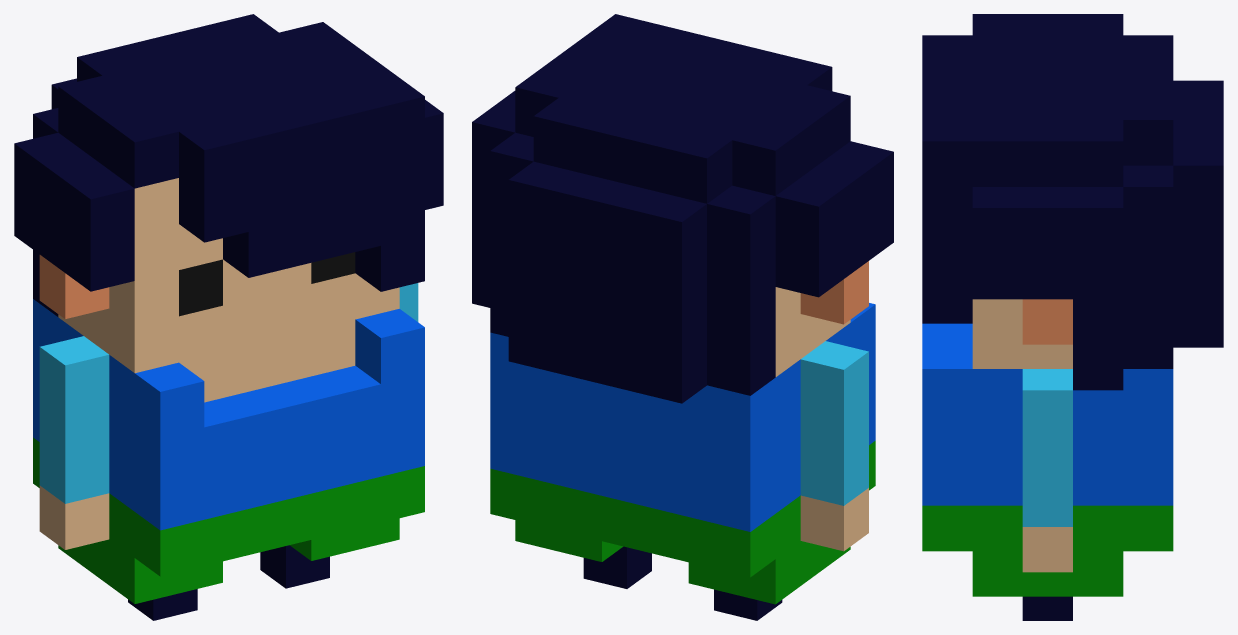
The model's file is chr_raver2.obj.
3 views of the same model, side by side, from view 1: azimuth 30°, elevation 25°; view 2: azimuth 150°, elevation 25°; view 3: azimuth 270°, elevation 25° (orthographic).
Size of the model in its own units: 0.8 by 1.1 by 0.6.
Materials: 1 (1 with a texture image).
